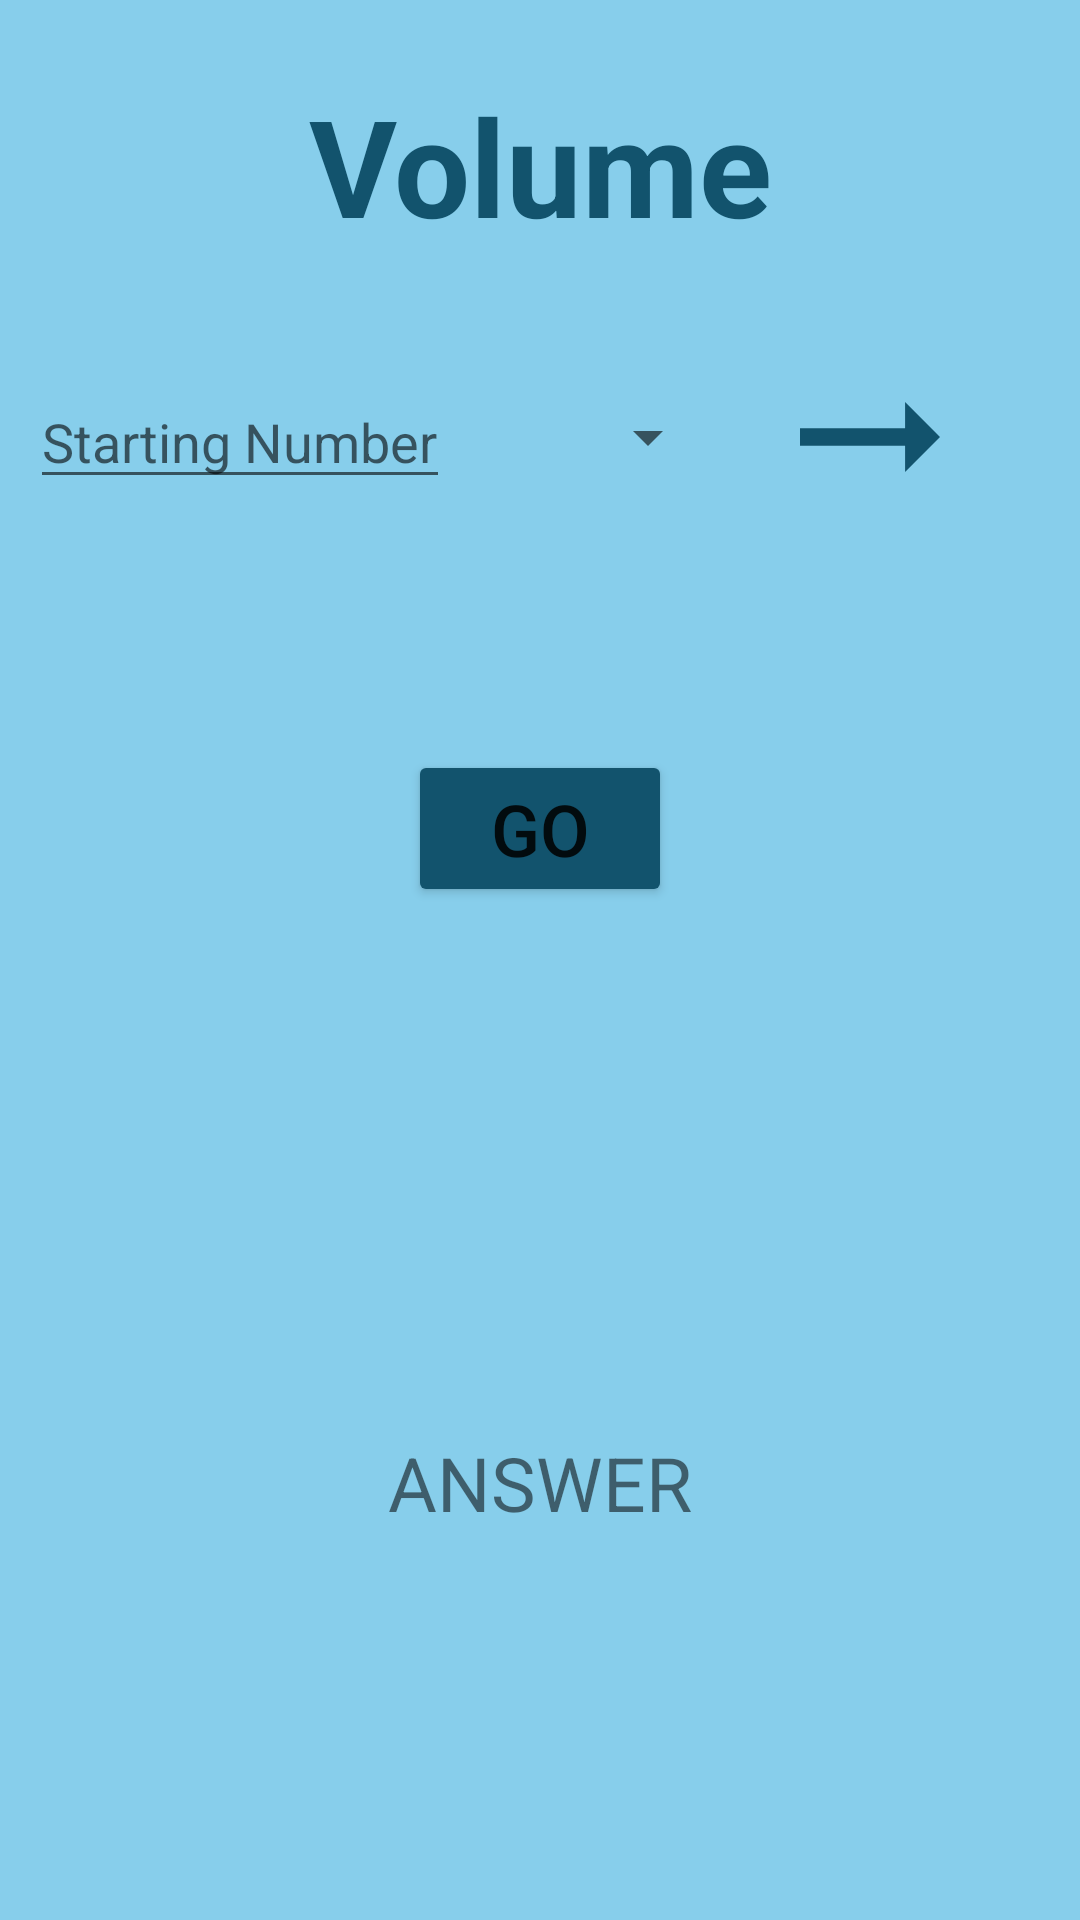

Where icons sit on this 1080 x 1920 app screen, as (x1, y1, x2, y2):
arrow: (800, 402, 940, 472)
